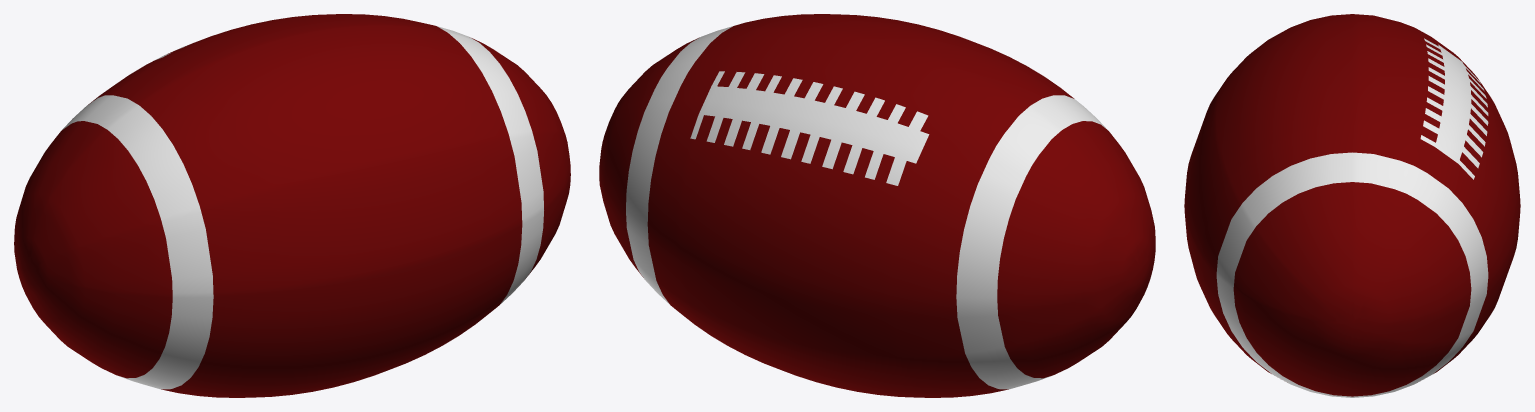
File: rubby ball.fbx
3 views of the same model, side by side, from view 1: azimuth 30°, elevation 25°; view 2: azimuth 150°, elevation 25°; view 3: azimuth 270°, elevation 25° (orthographic). The views are drawn at different scales.
Parts seen in each view (by area): view 1: rubby_ball1:pSphere1; view 2: rubby_ball1:pSphere1; view 3: rubby_ball1:pSphere1.
Boxes of the visible parts, bbox=[...] form: rubby_ball1:pSphere1: bbox=[14, 14, 570, 397]; rubby_ball1:pSphere1: bbox=[599, 14, 1155, 397]; rubby_ball1:pSphere1: bbox=[1184, 14, 1520, 397].
Bounding box in the file's own units: 3.64 × 2.23 × 2.23.
